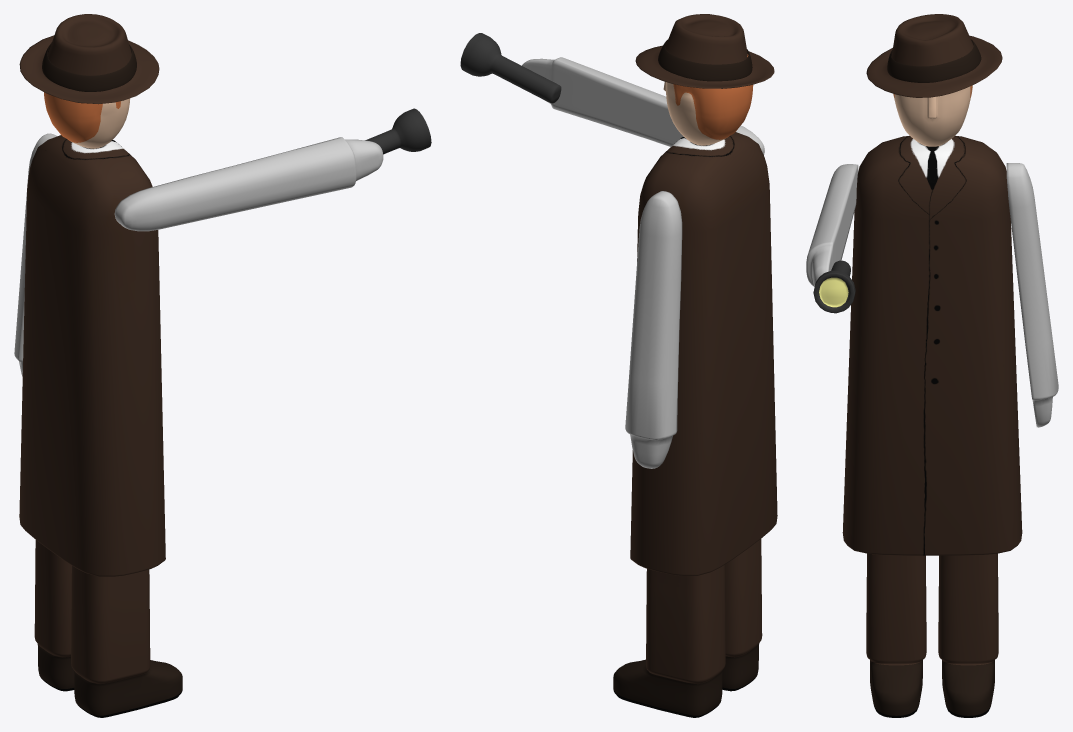
The model's file is CaseyFlynn_Final.fbx.
The picture shows the model from 3 angles, left to right: view 1: azimuth 30°, elevation 25°; view 2: azimuth 150°, elevation 25°; view 3: azimuth 270°, elevation 25°; orthographic projection.
Parts seen in each view (by area): view 1: Retopo_bodyTrenchcoat, Retopo_armRight_SleveLong, Retopo_legRight, Retopo_fedoraHat, Retopo_legLeft, Retopo_Head, midPoly_fedoraBand, Retopo_Mesh.005, Retopo_armLeft_SleveLong; view 2: Retopo_bodyTrenchcoat, Retopo_armLeft_SleveLong, Retopo_legLeft, Retopo_armRight_SleveLong, Retopo_fedoraHat, Retopo_legRight, Retopo_Head, Retopo_Mesh.005, midPoly_fedoraBand; view 3: Retopo_bodyTrenchcoat, Retopo_legLeft, Retopo_legRight, Retopo_armLeft_SleveLong, Retopo_fedoraHat, Retopo_armRight_SleveLong, Retopo_Head, midPoly_fedoraBand, Retopo_Mesh.005.
Boxes of the visible parts, x1=… form: Retopo_bodyTrenchcoat: x1=19, y1=135, x2=165, y2=576; Retopo_armRight_SleveLong: x1=114, y1=137, x2=383, y2=231; Retopo_legRight: x1=71, y1=565, x2=182, y2=717; Retopo_fedoraHat: x1=19, y1=14, x2=159, y2=104; Retopo_legLeft: x1=34, y1=540, x2=74, y2=691; Retopo_Head: x1=44, y1=92, x2=130, y2=148; midPoly_fedoraBand: x1=42, y1=42, x2=136, y2=91; Retopo_Mesh.005: x1=365, y1=108, x2=431, y2=154; Retopo_armLeft_SleveLong: x1=14, y1=133, x2=56, y2=376; Retopo_bodyTrenchcoat: x1=630, y1=132, x2=777, y2=575; Retopo_armLeft_SleveLong: x1=625, y1=191, x2=682, y2=468; Retopo_legLeft: x1=613, y1=565, x2=725, y2=717; Retopo_armRight_SleveLong: x1=522, y1=57, x2=764, y2=154; Retopo_fedoraHat: x1=635, y1=14, x2=774, y2=88; Retopo_legRight: x1=722, y1=539, x2=762, y2=691; Retopo_Head: x1=663, y1=54, x2=753, y2=145; Retopo_Mesh.005: x1=460, y1=33, x2=561, y2=103; midPoly_fedoraBand: x1=658, y1=39, x2=752, y2=81; Retopo_bodyTrenchcoat: x1=842, y1=135, x2=1022, y2=555; Retopo_legLeft: x1=938, y1=553, x2=998, y2=717; Retopo_legRight: x1=866, y1=553, x2=926, y2=717; Retopo_armLeft_SleveLong: x1=1006, y1=163, x2=1058, y2=427; Retopo_fedoraHat: x1=866, y1=14, x2=1002, y2=97; Retopo_armRight_SleveLong: x1=806, y1=164, x2=858, y2=286; Retopo_Head: x1=893, y1=85, x2=972, y2=146; midPoly_fedoraBand: x1=887, y1=39, x2=981, y2=82; Retopo_Mesh.005: x1=813, y1=260, x2=855, y2=313.
Size of the model in its own units: 95.03 by 175 by 60.21.
